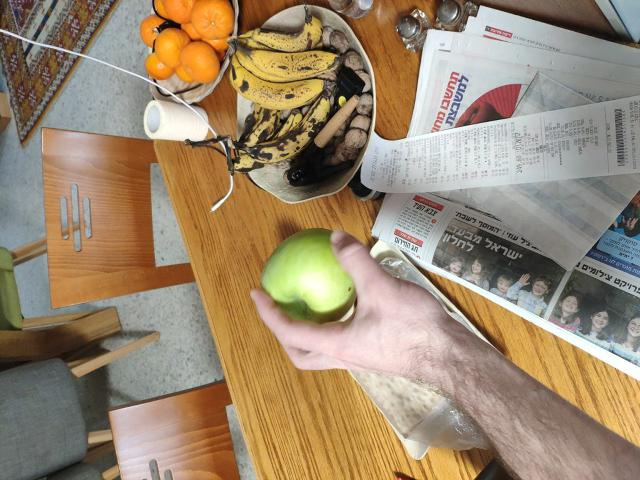apple: (254, 236, 361, 322)
